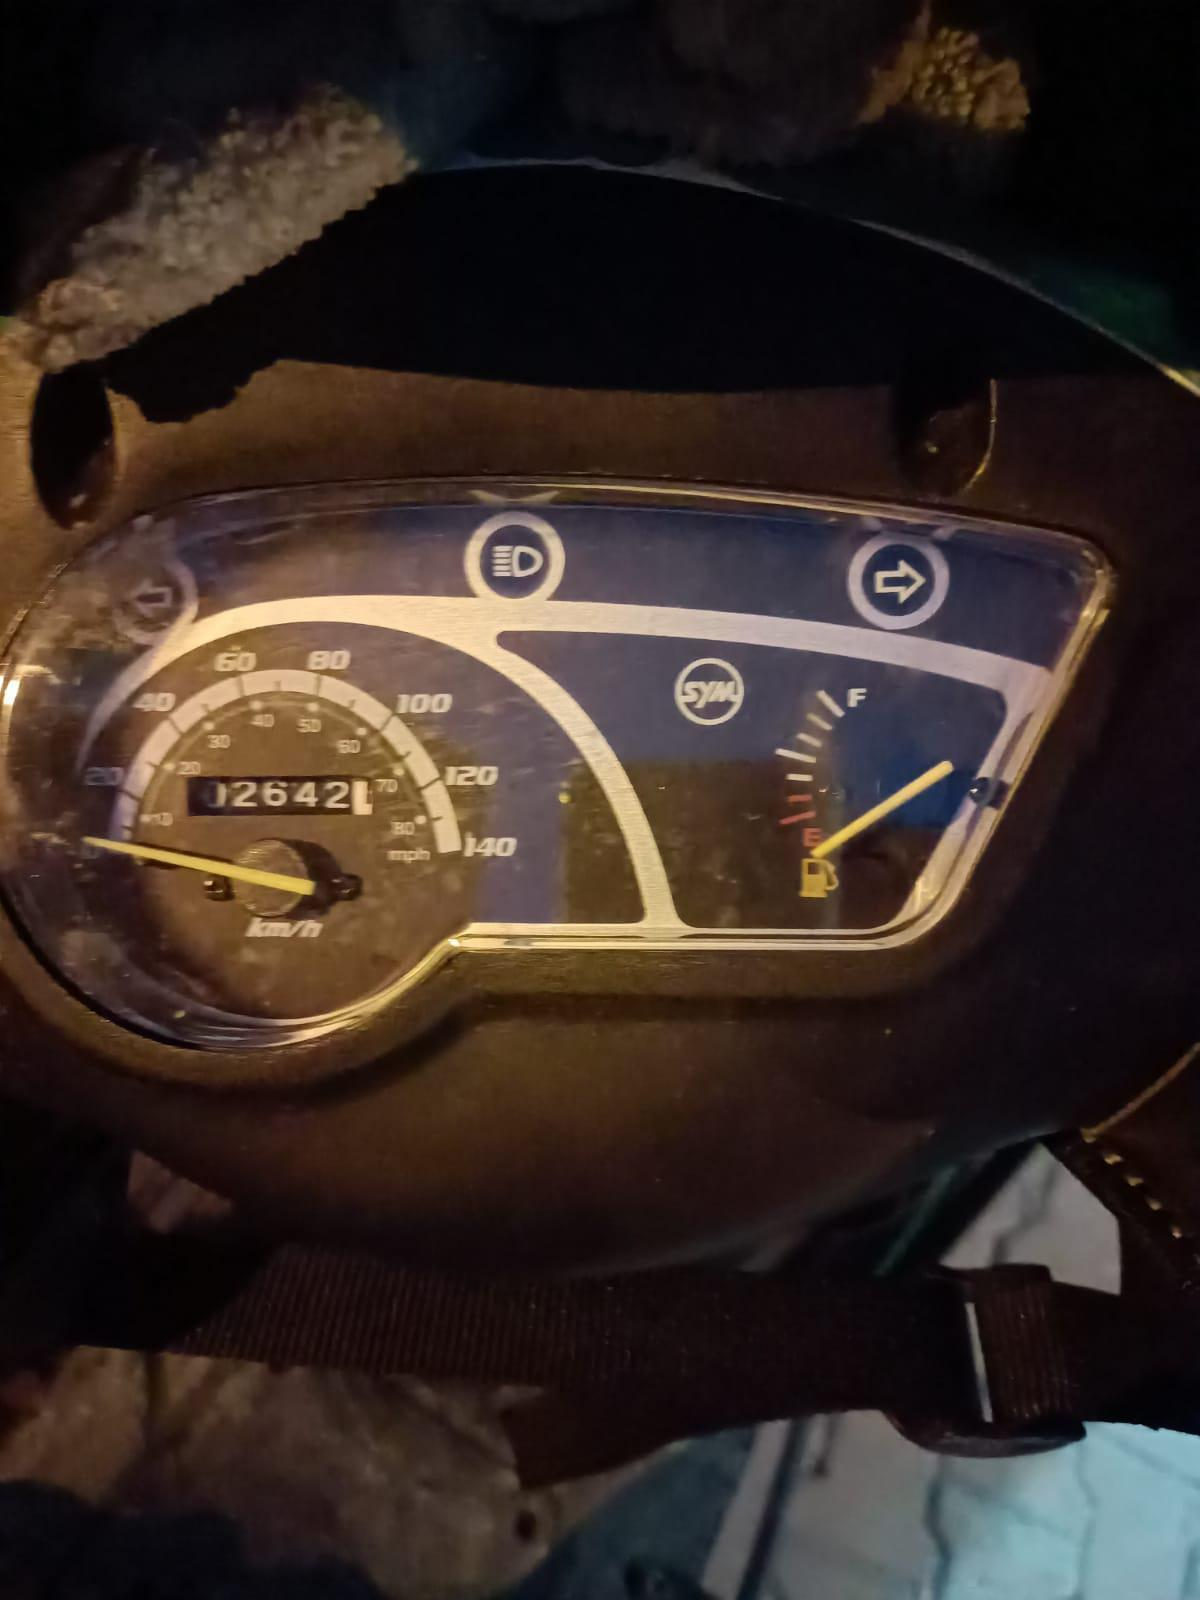0: (199, 779, 227, 811)
1: (361, 776, 374, 813)
2: (229, 779, 258, 811), (325, 777, 350, 813)
4: (295, 779, 320, 809)
6: (261, 777, 289, 809)
odometer: (185, 769, 378, 823)
